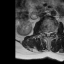CCS_stenosis: (47, 29, 49, 39)
LFS_normal: (51, 29, 53, 35)
LLS_stenosis: (49, 29, 51, 37)
RFS_normal: (42, 29, 45, 35)
RLS_stenosis: (44, 29, 47, 36)
